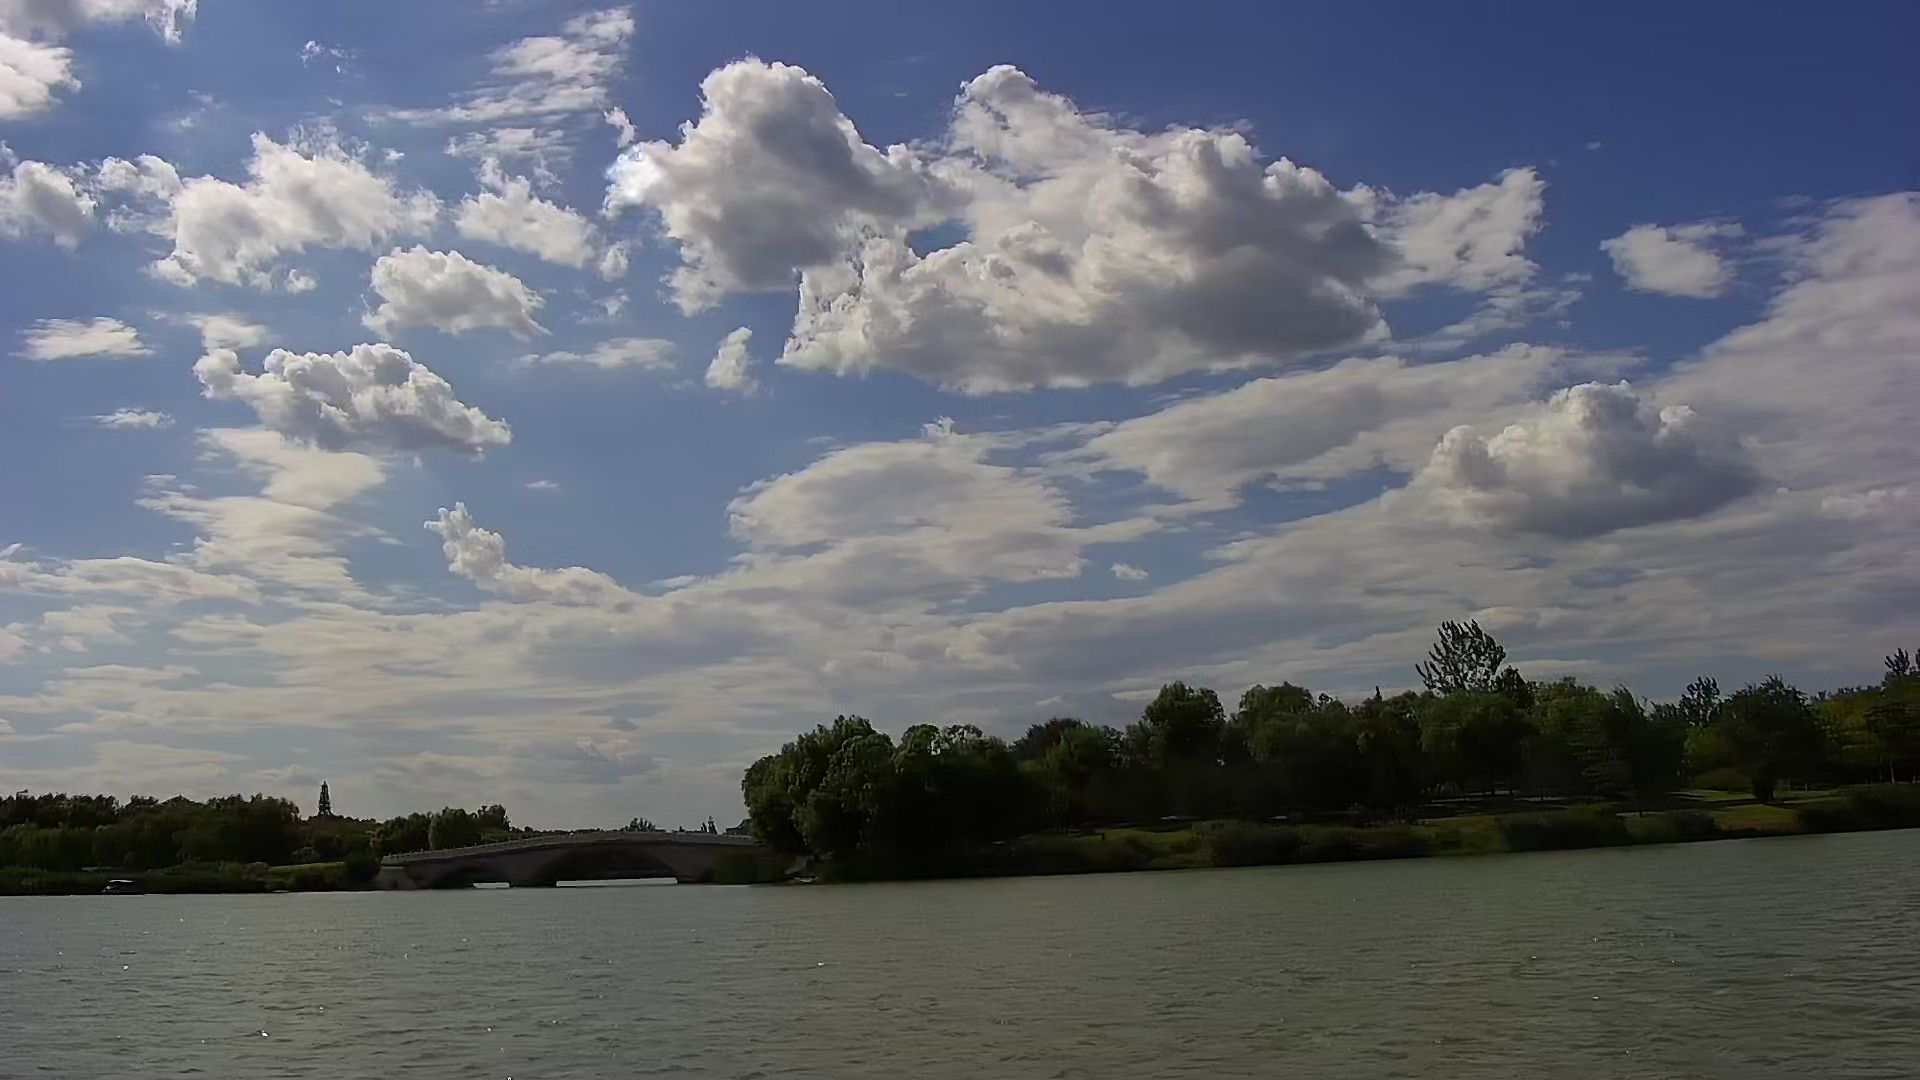bridge: (400, 829, 746, 891)
